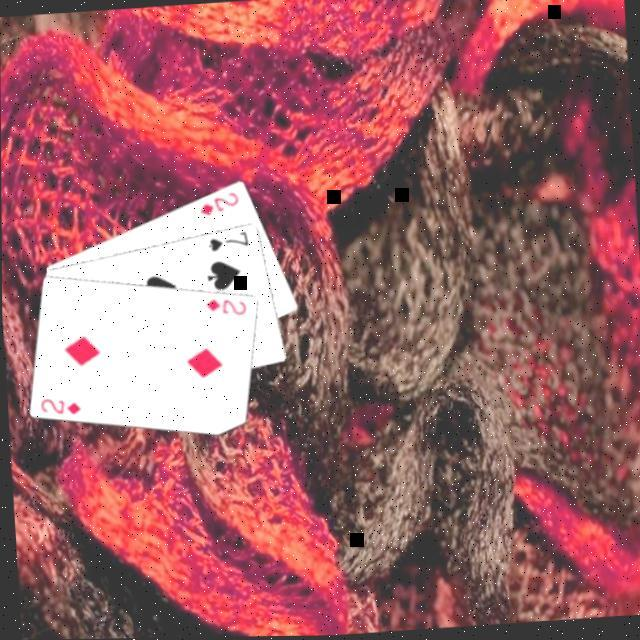2D: (193, 187, 240, 218), (200, 292, 248, 320), (34, 391, 82, 418)
7S: (202, 226, 250, 254)
